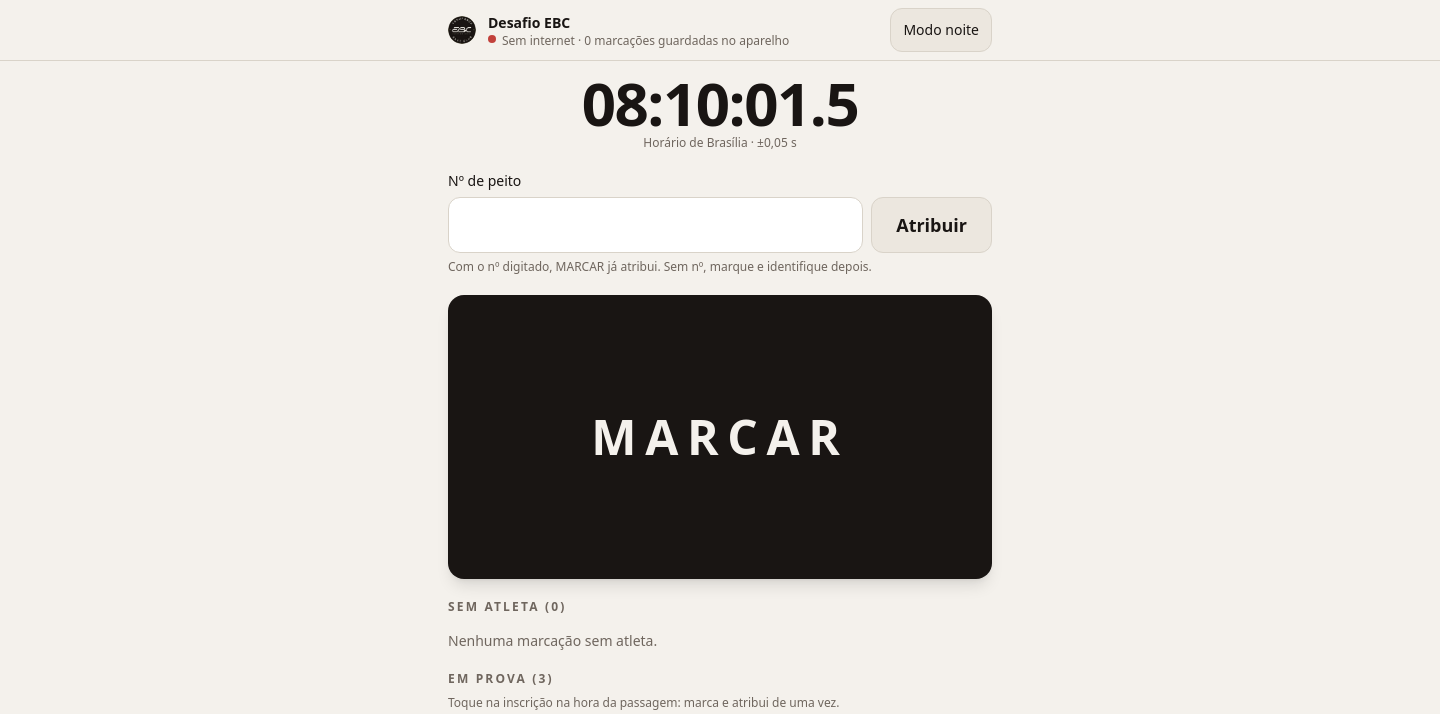
registration › opens straight from the cache while offline and keeps marking
Expected: the message with test id "tk-sync-status" reads "Sem internet · 0 marcações guardadas no aparelho", [502, 32, 789, 48]
Step 1. Click the button with test id "mark-button" → (720, 437), box [448, 295, 992, 578]
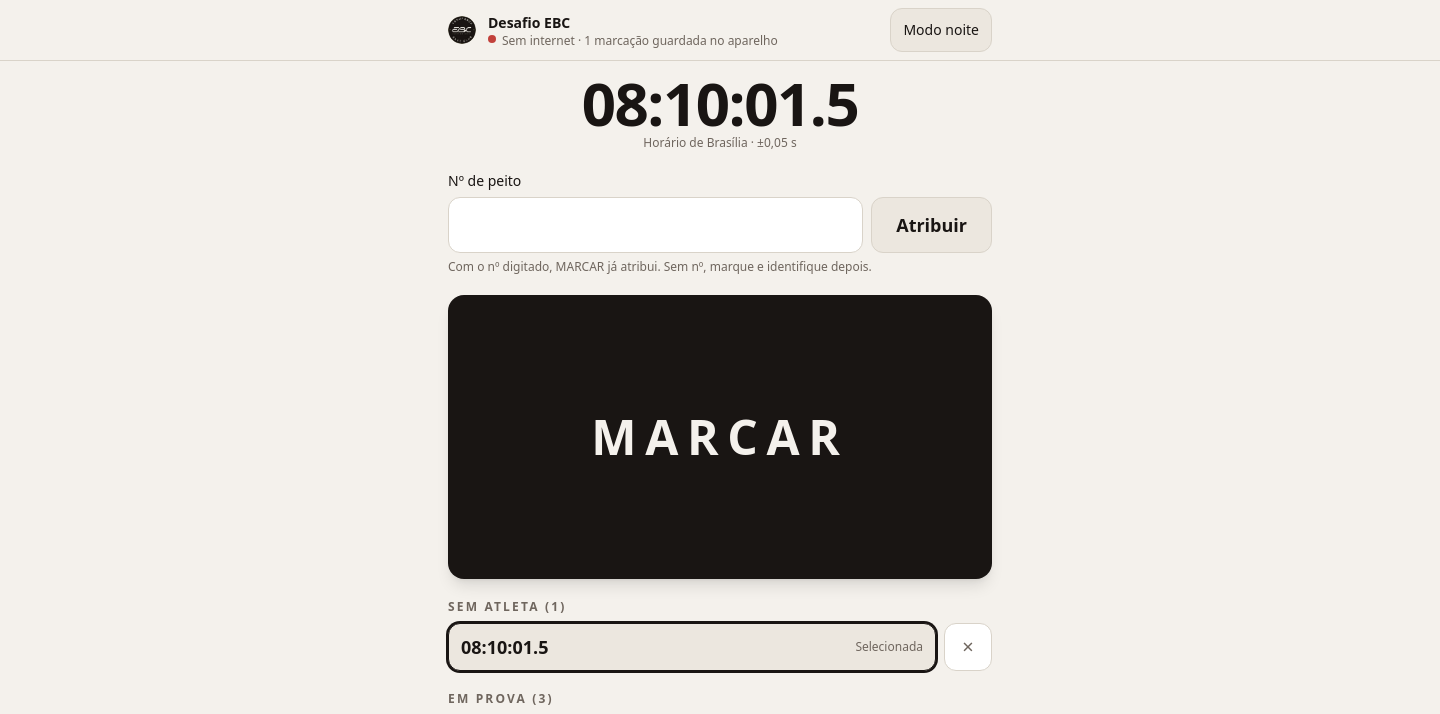
Now the message with test id "tk-sync-status" reads "Sem internet · 1 marcação guardada no aparelho", box [502, 32, 778, 48]
